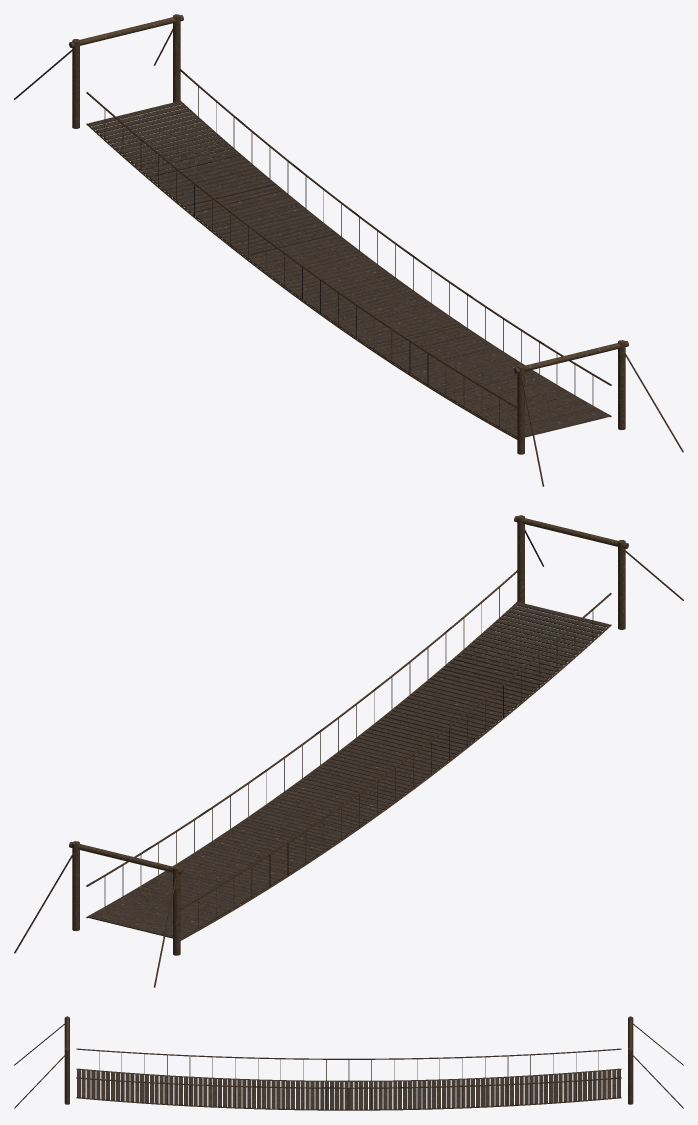
File: rope_bridge.glb
3 views of the same model, one above another, from view 1: azimuth 30°, elevation 25°; view 2: azimuth 150°, elevation 25°; view 3: azimuth 270°, elevation 25° (orthographic). The views are drawn at different scales.
Visible parts, largest first — view 1: rope_bridge; view 2: rope_bridge; view 3: rope_bridge.
Boxes of the visible parts, x1,y1,x2,y2 form: rope_bridge: (14,14,683,486); rope_bridge: (14,515,683,987); rope_bridge: (14,1016,683,1110).
Size of the model in its own units: 6.82 by 4.58 by 44.25.
Materials: 1 (1 with a texture image).
